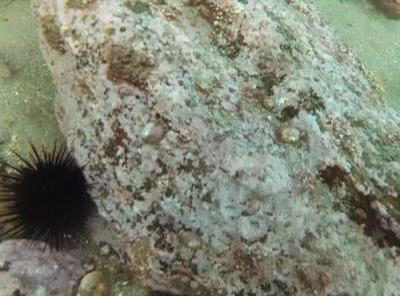urchin: (3, 145, 103, 247)
